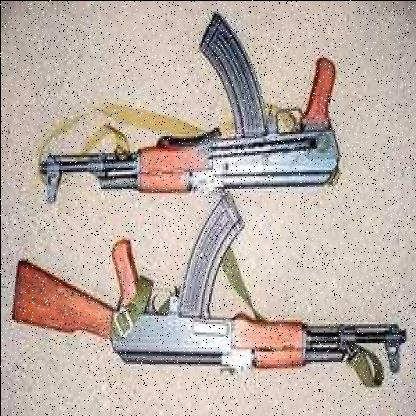rifle: (7, 209, 410, 397), (31, 21, 352, 226)
